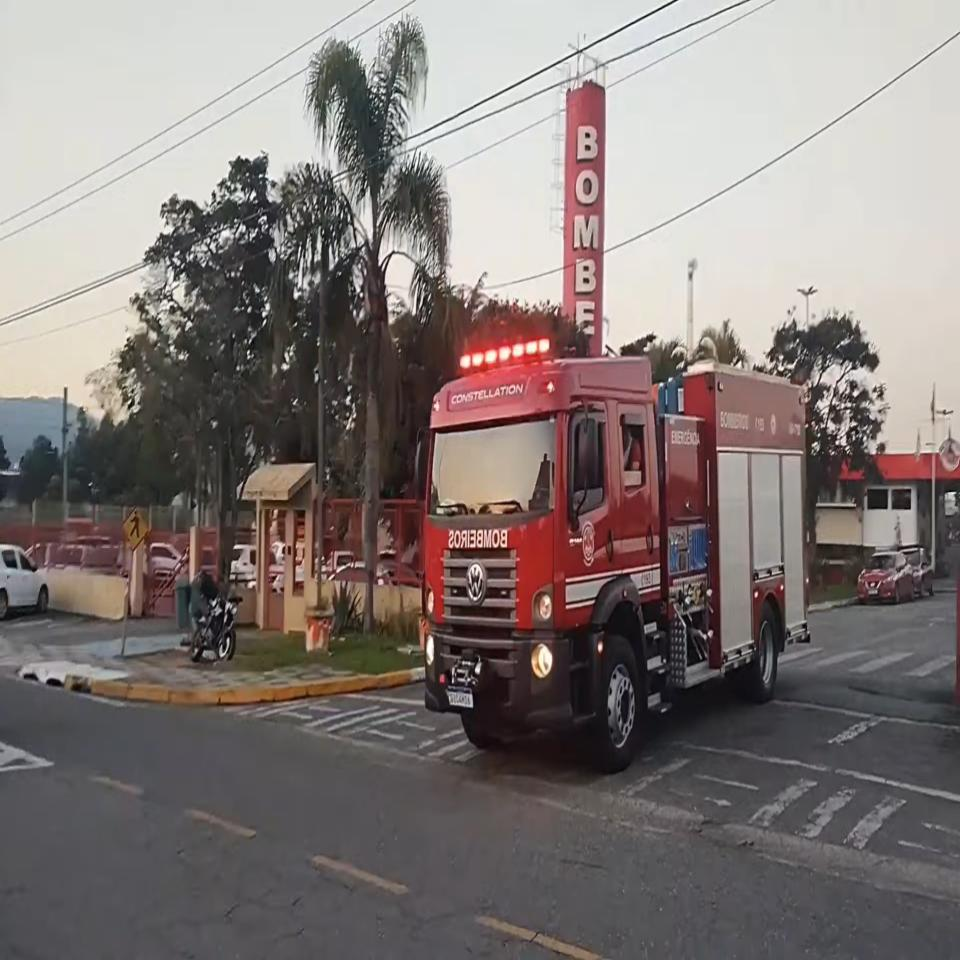viatura: (412, 340, 812, 770)
